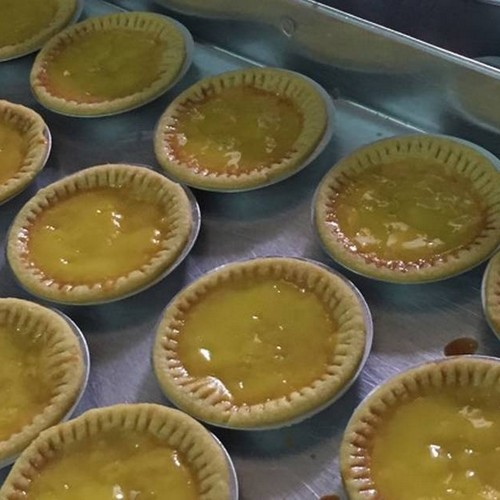pie susu: (152, 266, 378, 430), (312, 135, 491, 285), (12, 169, 196, 306), (163, 69, 334, 192), (34, 21, 176, 113)
